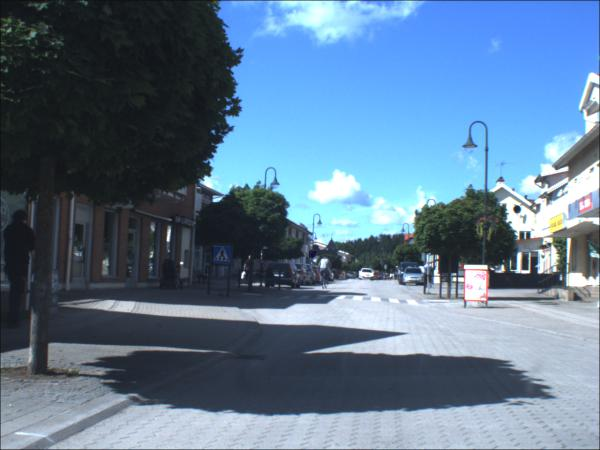NO_PARKING: (309, 253, 317, 261)
PEDESTRIAN_CROSSING: (212, 248, 232, 266)
